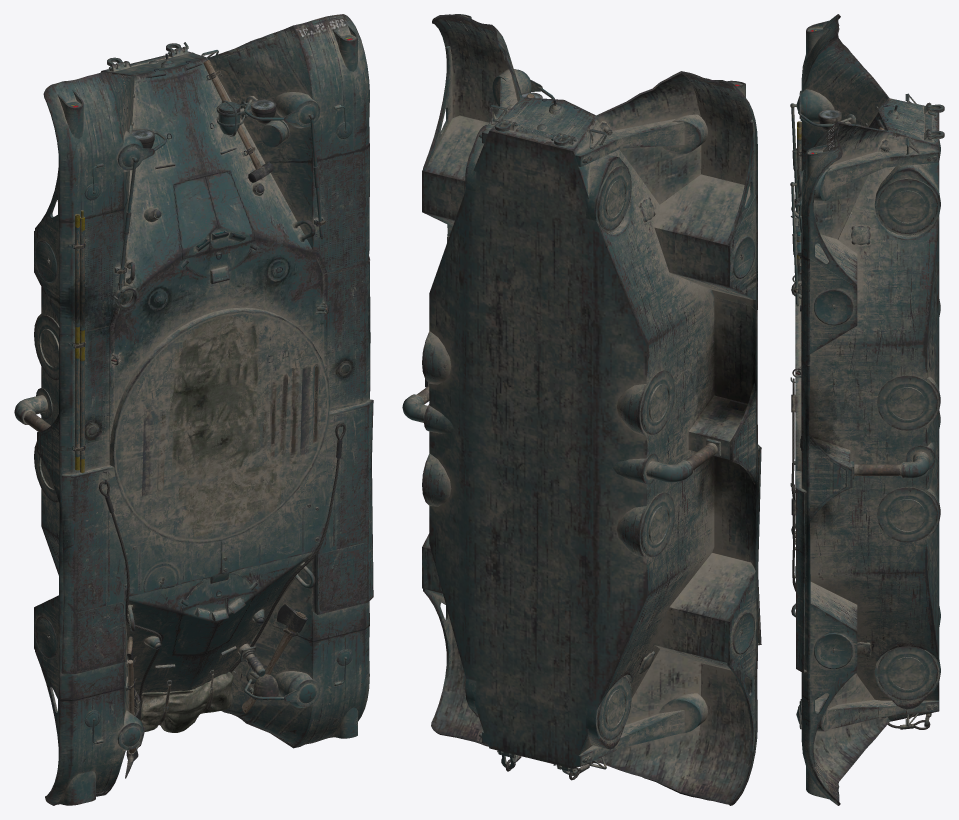
File: Hull.glb
3 views of the same model, side by side, from view 1: azimuth 30°, elevation 25°; view 2: azimuth 150°, elevation 25°; view 3: azimuth 270°, elevation 25° (orthographic). The views are drawn at different scales.
Parts seen in each view (by area): view 1: set_0_group_0; view 2: set_0_group_0; view 3: set_0_group_0.
Boxes of the visible parts, x1,y1,x2,y2 form: set_0_group_0: (14, 14, 373, 805); set_0_group_0: (402, 14, 761, 805); set_0_group_0: (790, 14, 944, 805).
Bounding box in the file's own units: 2.41 × 5.36 × 1.13.
1 material, 1 textured.
